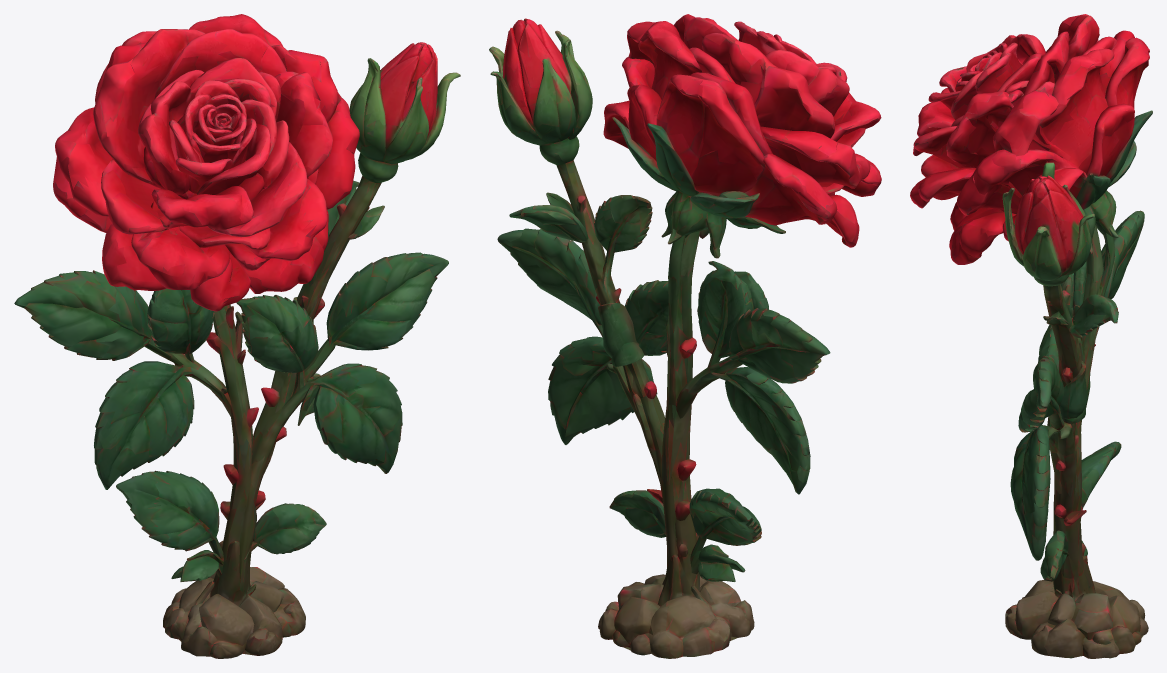
The model's file is upm_muprjug92cf.glb.
The picture shows the model from 3 angles, left to right: view 1: azimuth 30°, elevation 25°; view 2: azimuth 150°, elevation 25°; view 3: azimuth 270°, elevation 25°; orthographic projection. The views are drawn at different scales.
Size of the model in its own units: 1.28 by 1.9 by 0.7177.
1 material, 1 textured.
